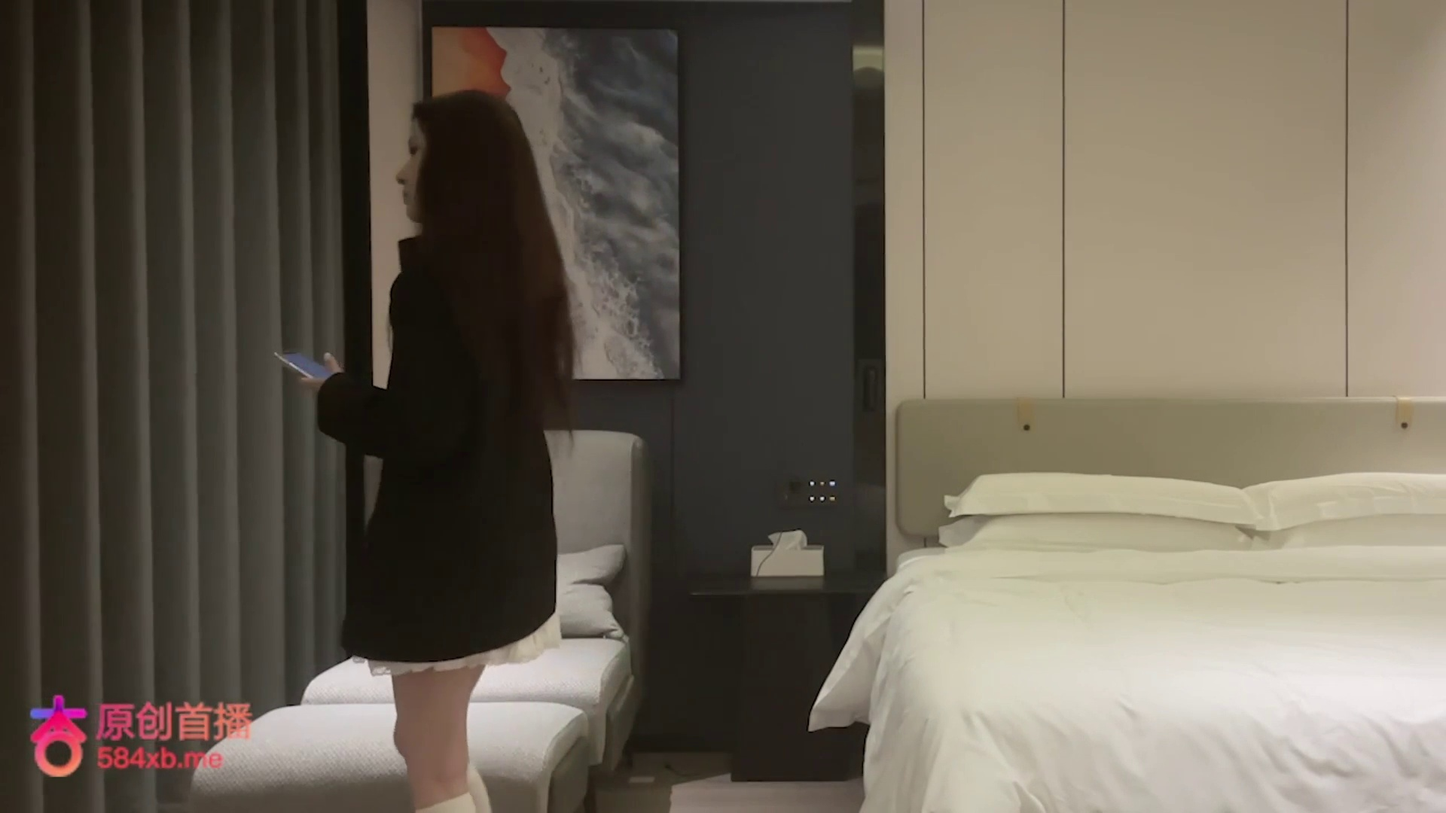stand: (278, 88, 575, 813)
